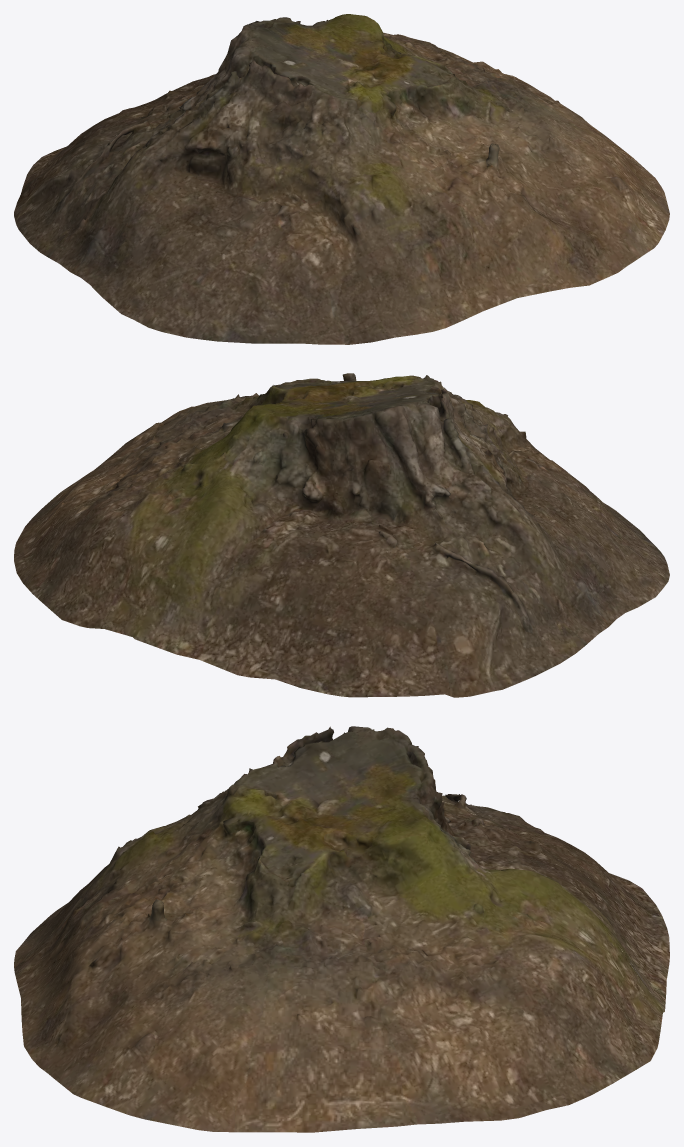
Rendered from tree_stump_02.glb.
3 views of the same model, one above another, from view 1: azimuth 30°, elevation 25°; view 2: azimuth 150°, elevation 25°; view 3: azimuth 270°, elevation 25° (orthographic). The views are drawn at different scales.
Visible parts, largest first — view 1: tree_stump_02; view 2: tree_stump_02; view 3: tree_stump_02.
Boxes of the visible parts, box(x1,y1,x2,y2) form: tree_stump_02: box(14, 14, 669, 344); tree_stump_02: box(14, 373, 669, 697); tree_stump_02: box(14, 726, 669, 1132).
Bounding box in the file's own units: 1.52 × 0.5214 × 1.39.
1 material, 1 textured.
